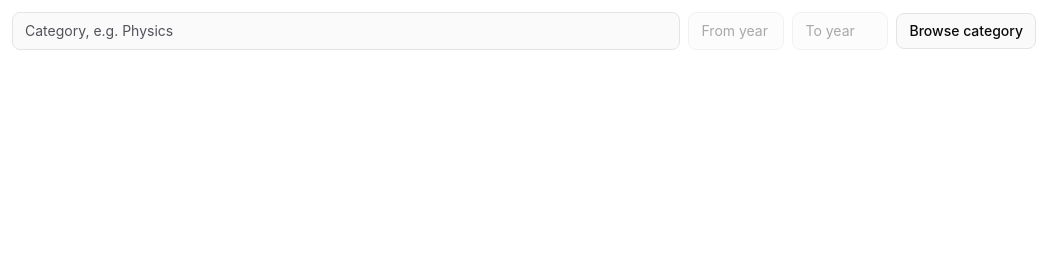
it: CategoryFilter › selecting a suggestion fills the field and closes the dropdown
This screenshot has width=1048, height=264.
Click the field labelled "Category".
click(346, 31)  # box [12,12,680,50]
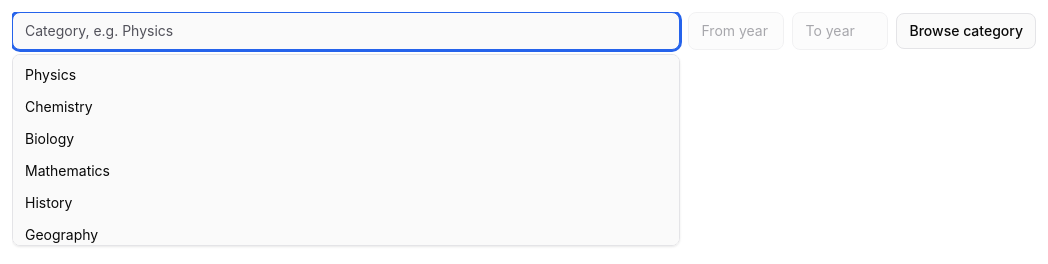
Click the button "Physics".
click(51, 74)  # box [13,59,680,91]
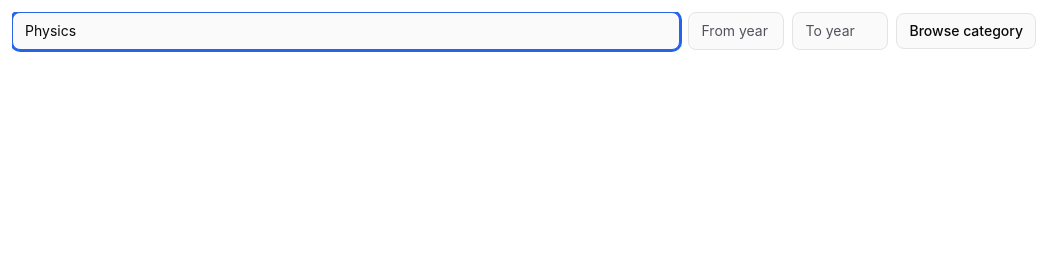
Result: the field named "Category" holds "Physics" at [12,12,680,50]
Result: the button "Chemistry" is gone
